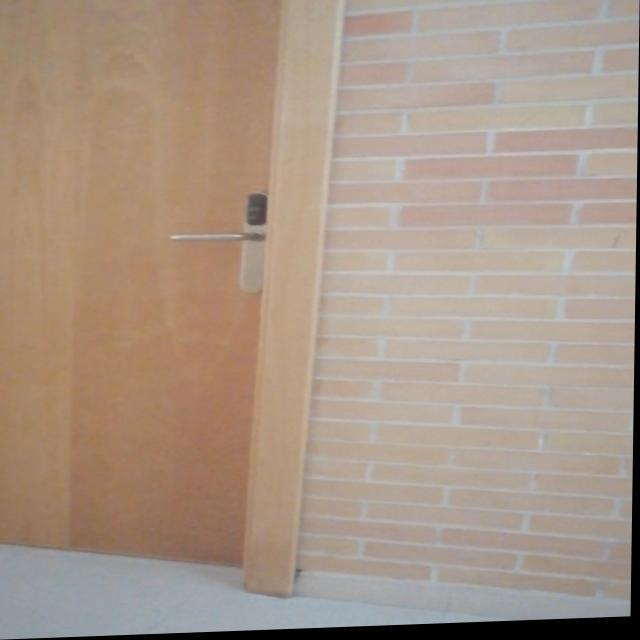door_handle: (162, 228, 267, 252)
